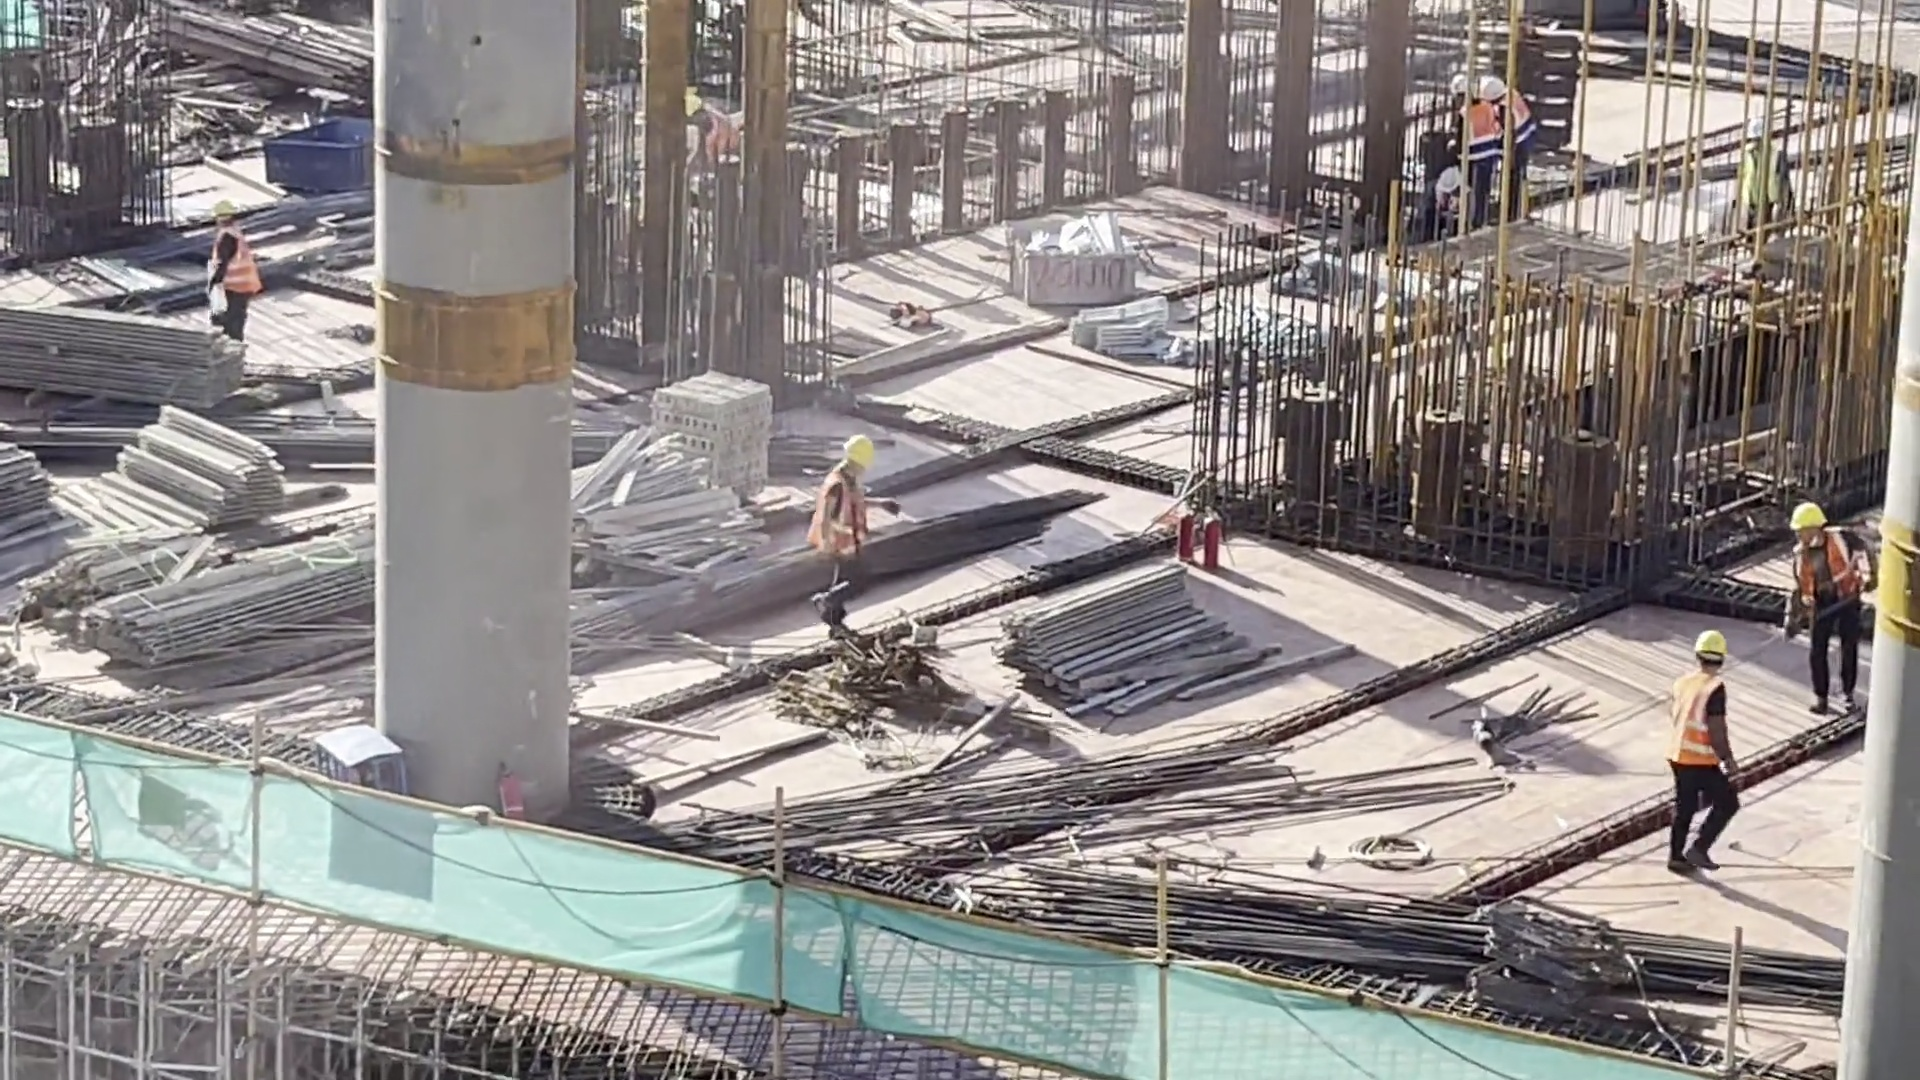helmet: (842, 426, 879, 472), (1785, 496, 1822, 533), (1696, 630, 1734, 663), (1448, 76, 1500, 100), (208, 193, 238, 220)
hopper: (1006, 197, 1155, 316), (258, 89, 371, 194)
person: (1653, 623, 1751, 886), (1779, 493, 1871, 721), (795, 408, 879, 638), (186, 198, 274, 341), (1444, 57, 1507, 228), (678, 86, 751, 209), (1488, 68, 1540, 219)
vest: (1793, 534, 1864, 626), (1665, 667, 1723, 772), (1445, 94, 1534, 157), (813, 457, 867, 549), (196, 227, 267, 296)
wood: (86, 517, 378, 675), (1006, 545, 1245, 717), (3, 294, 252, 432), (91, 406, 293, 534)
